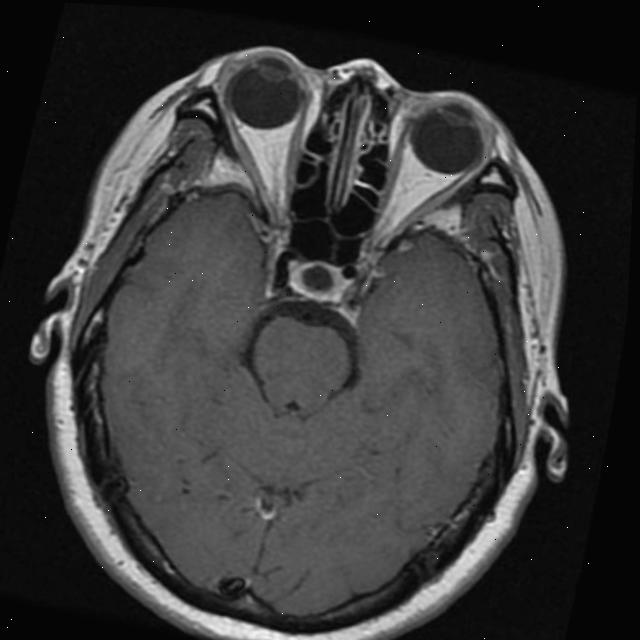Pituitary: (286, 253, 347, 305)
